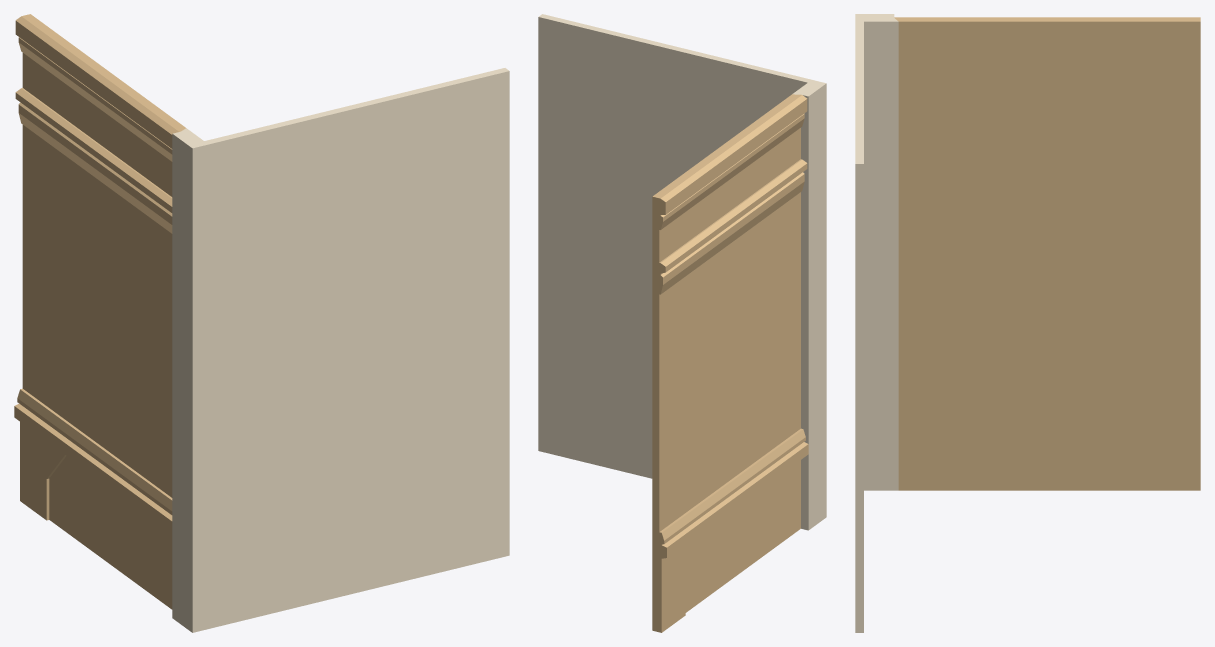
The model's file is CornerEdge.fbx.
3 views of the same model, side by side, from view 1: azimuth 30°, elevation 25°; view 2: azimuth 150°, elevation 25°; view 3: azimuth 270°, elevation 25° (orthographic). The views are drawn at different scales.
Parts seen in each view (by area): view 1: CornerEdge; view 2: CornerEdge; view 3: CornerEdge.
Part boxes in pixels (x1=…): CornerEdge: x1=14, y1=14, x2=509, y2=632; CornerEdge: x1=538, y1=14, x2=826, y2=632; CornerEdge: x1=855, y1=14, x2=1200, y2=632.
Bounding box in the file's own units: 205 × 200 × 300.
